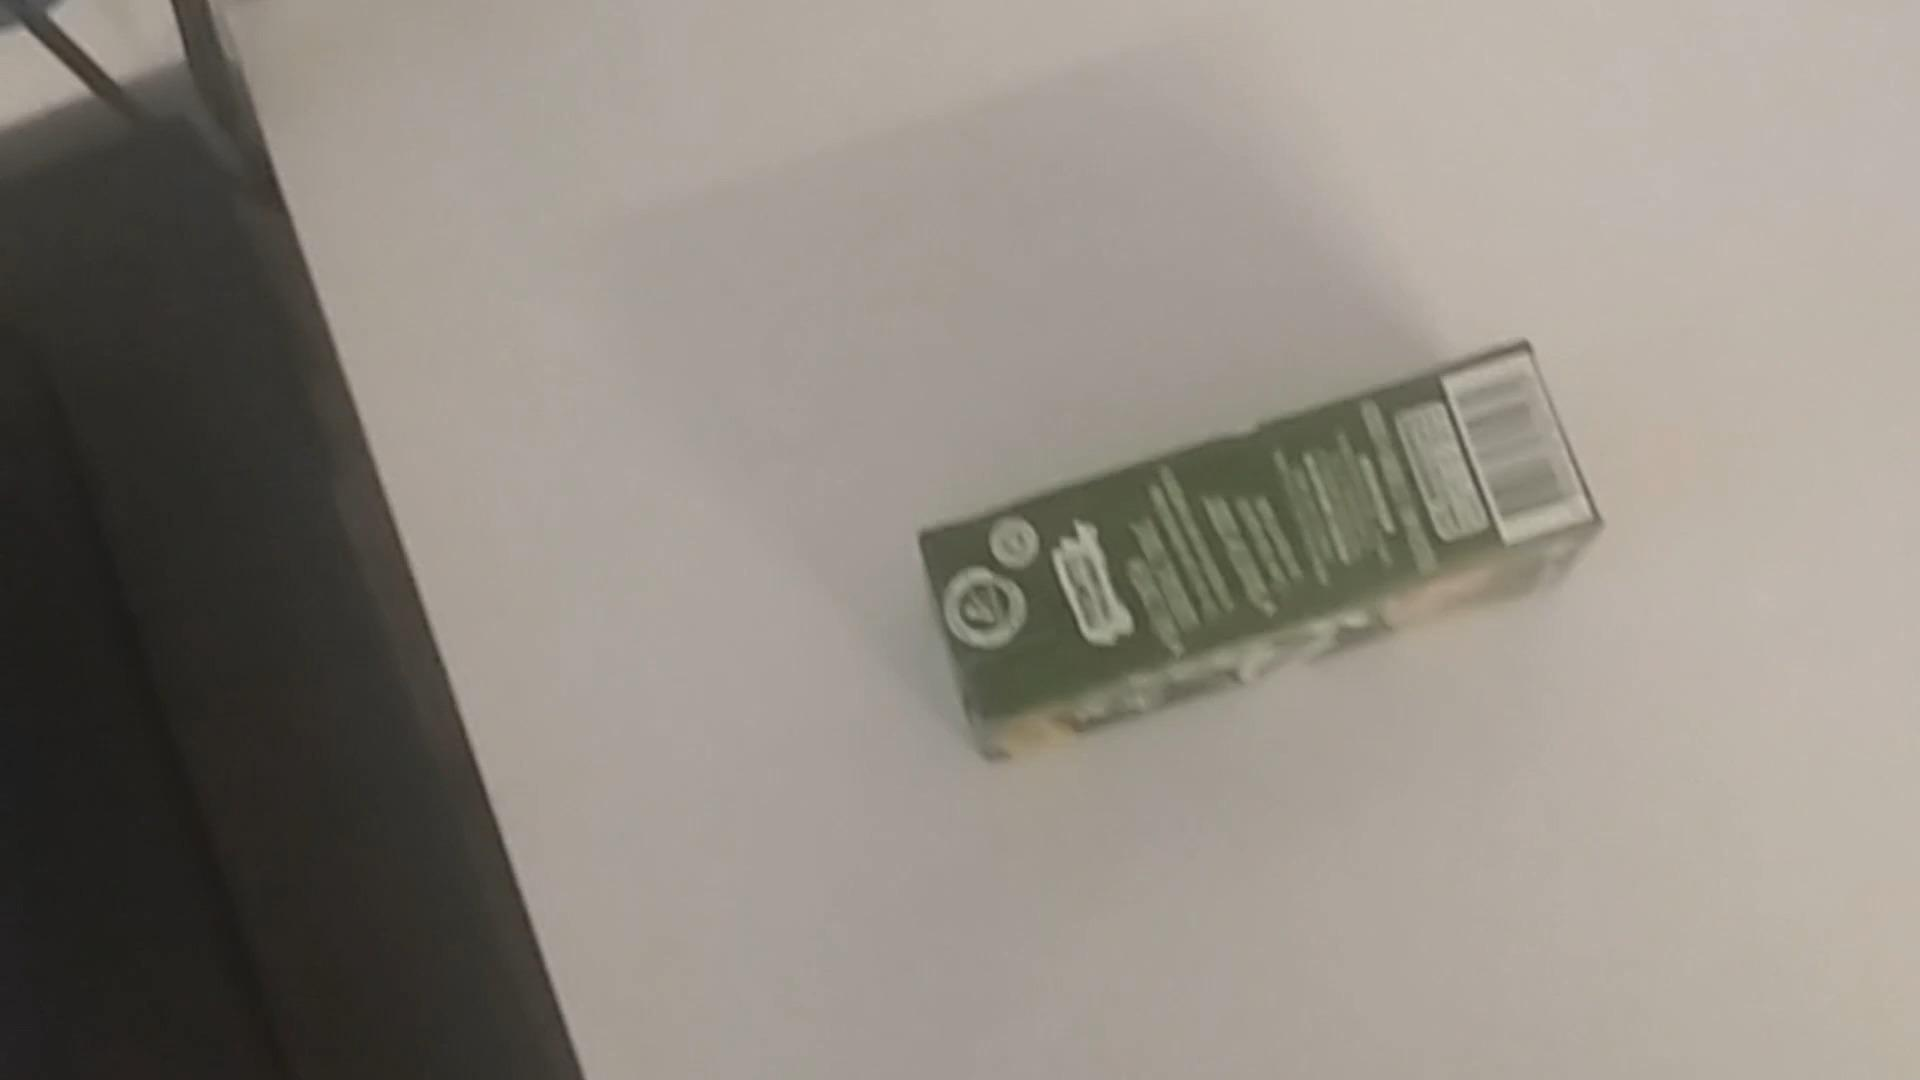coco: (918, 340, 1615, 770)
